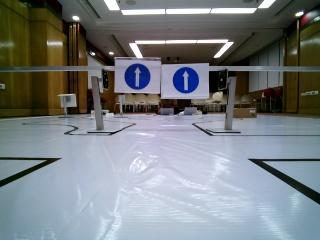straight: (162, 63, 209, 98), (116, 58, 158, 90)
